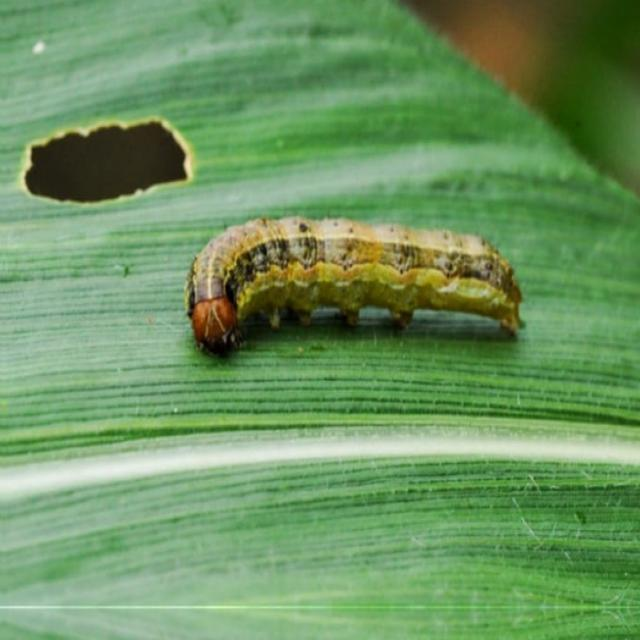armyworm: (183, 212, 523, 358)
